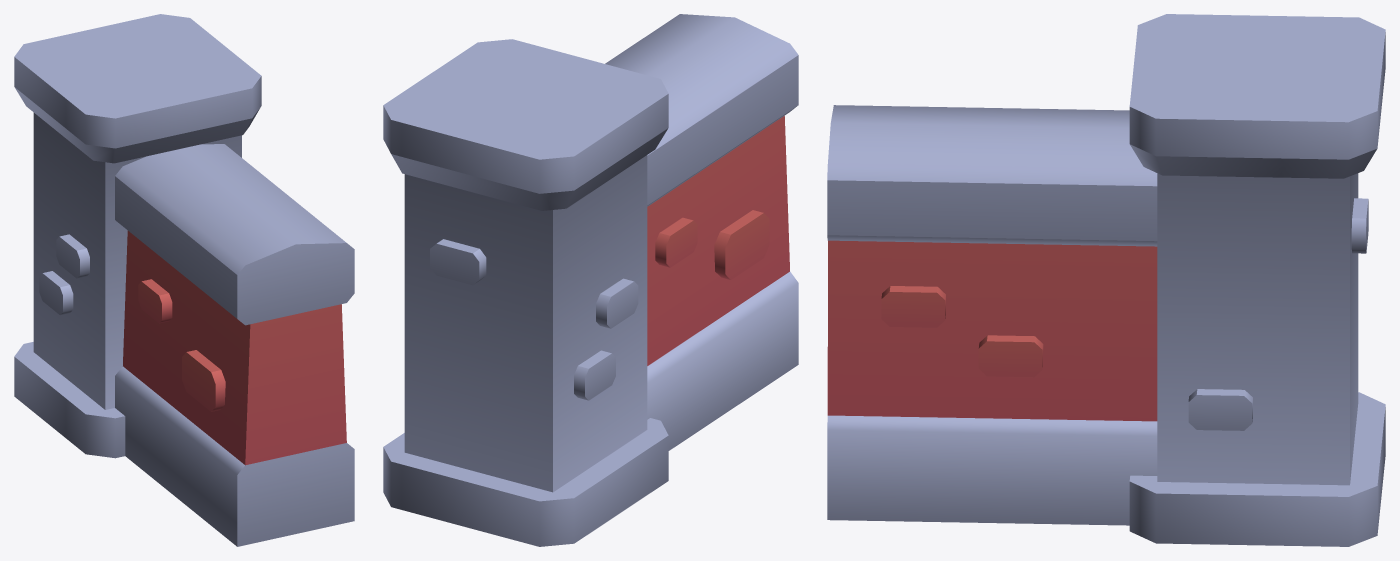
The model's file is brick-wall-end.015_lev2.glb.
3 views of the same model, side by side, from view 1: azimuth 30°, elevation 25°; view 2: azimuth 150°, elevation 25°; view 3: azimuth 270°, elevation 25° (orthographic). The views are drawn at different scales.
Parts seen in each view (by area): view 1: brick-wall-end.015_lev2; view 2: brick-wall-end.015_lev2; view 3: brick-wall-end.015_lev2.
Part boxes in pixels (<box>): brick-wall-end.015_lev2: <box>14,14,354,546</box>; brick-wall-end.015_lev2: <box>383,14,798,546</box>; brick-wall-end.015_lev2: <box>827,14,1385,546</box>.
Size of the model in its own units: 3.72 by 6.8 by 8.1.
Materials: 1 (1 with a texture image).
